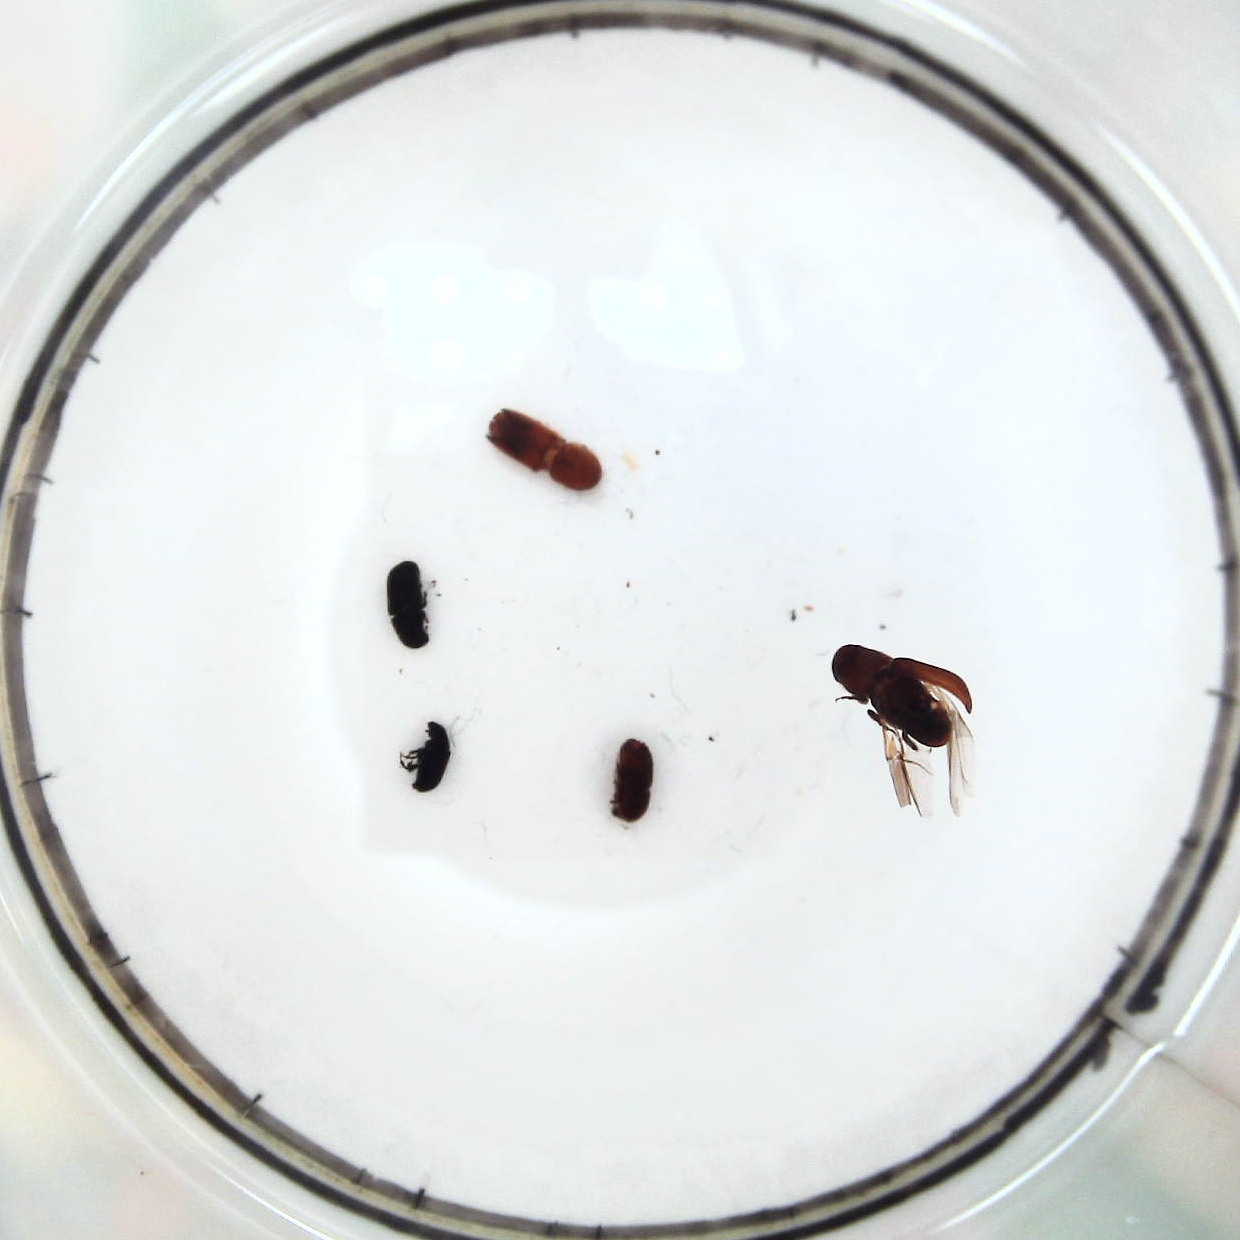Boerner: (480, 407, 602, 493)
Leconte: (831, 644, 975, 814)
Linnaeus: (613, 736, 653, 829)
armandi: (386, 562, 435, 647)
coleoptera: (399, 721, 453, 790)
